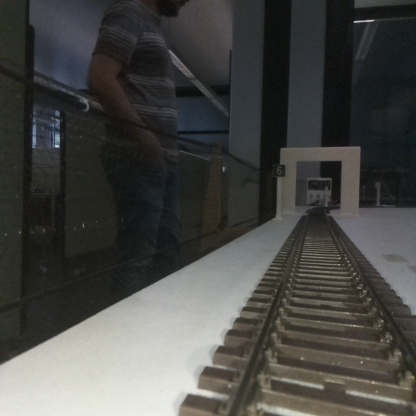black-info-6: (274, 164, 285, 220)
